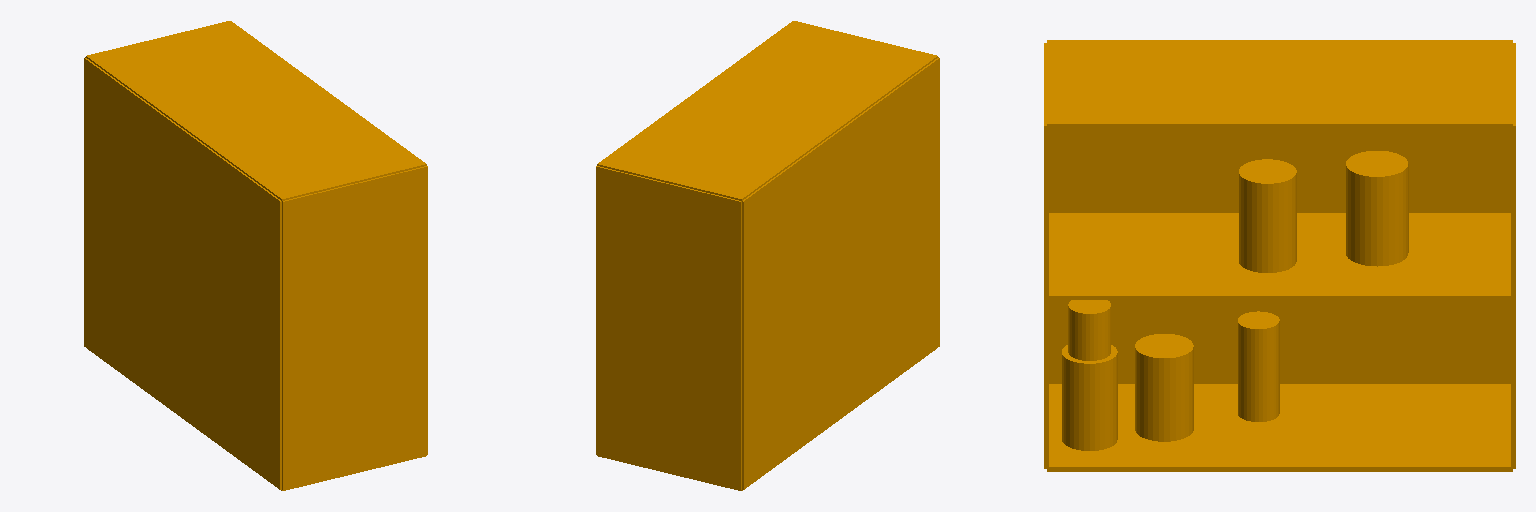
The robot description file, URDF, robot "syn_can_cabinet_2389":
<?xml version="1.0" ?>
<robot name="syn_can_cabinet_2389">
    <link concave="yes" name="base_link">
        <inertial>
            <origin rpy="0 0 0" xyz="0 0 0"/>
            <mass value="0.0"/>
            <inertia ixx="1e-08" ixy="0" ixz="0" iyy="1e-08" iyz="0" izz="1e-08"/>
        </inertial>
        <visual>
            <origin xyz="0 0 0" rpy="0 0 0" />
            <geometry>
                <mesh filename="syn_can_cabinet_2389.obj" scale="1.000000 1.000000 1.000000"/>
            </geometry>         
        </visual>

        <collision concave="yes">
            <origin xyz="0 0 0" rpy="0 0 0"/>
            <geometry>
                <mesh filename="syn_can_cabinet_2389.obj" scale="1.000000 1.000000 1.000000"/>
            </geometry>
        </collision>
    </link>
</robot>
    

--- What the picture shows (computed from the rendered views, not written in the file) ---
The picture shows the robot from 3 angles, left to right: view 1: azimuth 30°, elevation 25°; view 2: azimuth 150°, elevation 25°; view 3: azimuth 270°, elevation 25°; orthographic projection.
Robot: syn_can_cabinet_2389 — 1 links, 0 joints (none); root link base_link; default pose: all joints at 0.
Visible links, largest first — view 1: base_link; view 2: base_link; view 3: base_link.
Boxes of the visible links, x1,y1,x2,y2 form: base_link: (84,21,427,490); base_link: (596,21,939,490); base_link: (1044,40,1515,471).
Size in the robot's own frame: 0.1991 by 0.4667 by 0.3797 metres.
1 mesh visuals loaded from 1 distinct referenced files (1 OBJ).
